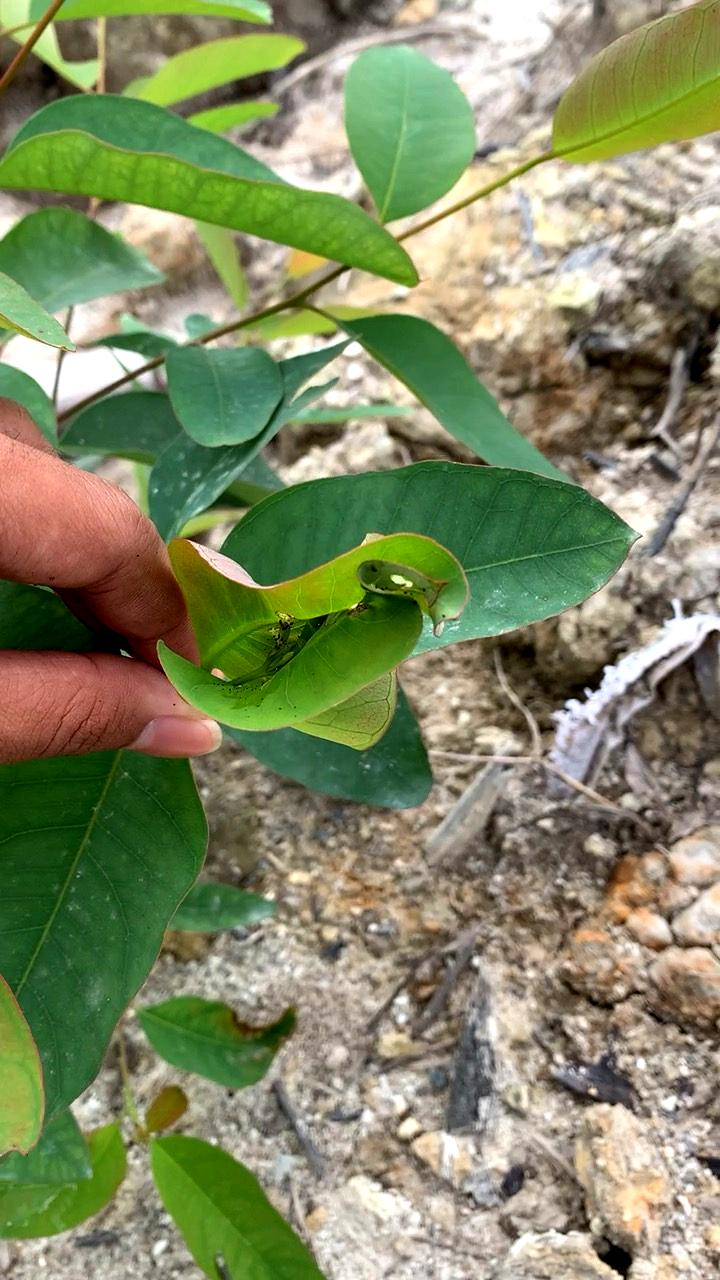Leaf Roller - Leaf: (133, 508, 513, 770)
